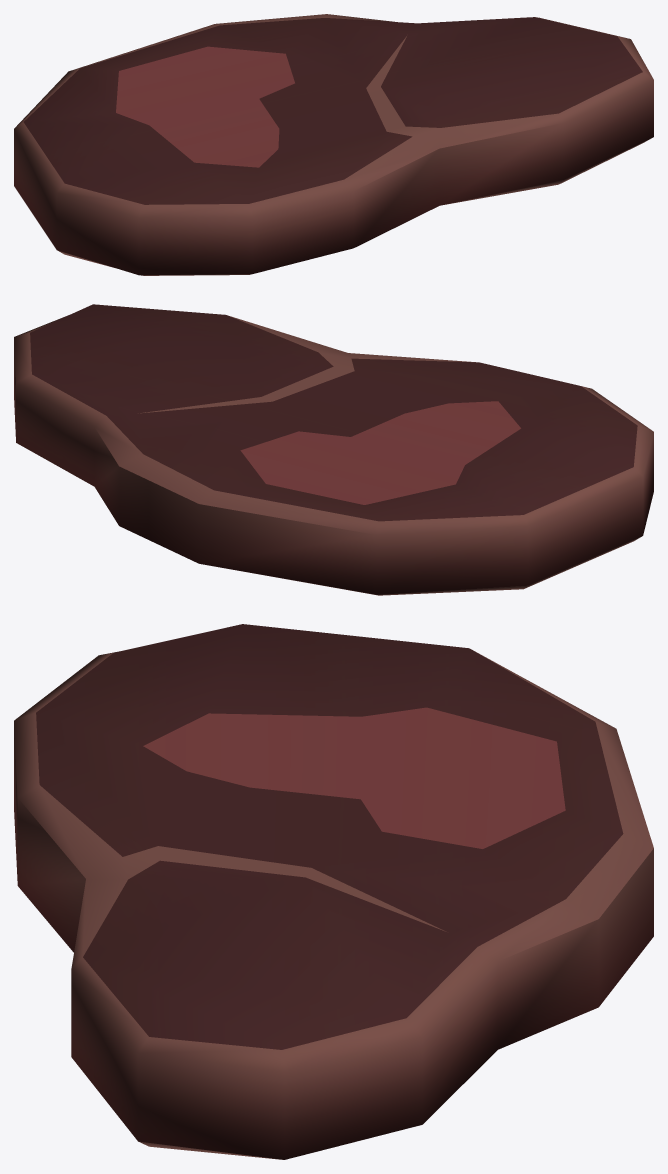
The model's file is Steak_Done_1A.fbx.
The picture shows the model from 3 angles, top to bottom: view 1: azimuth 30°, elevation 25°; view 2: azimuth 150°, elevation 25°; view 3: azimuth 270°, elevation 25°; orthographic projection. The views are drawn at different scales.
Parts seen in each view (by area): view 1: Steak_Done_1A; view 2: Steak_Done_1A; view 3: Steak_Done_1A.
Boxes of the visible parts, <box> form: Steak_Done_1A: <box>14,14,653,275</box>; Steak_Done_1A: <box>14,304,653,595</box>; Steak_Done_1A: <box>14,624,653,1159</box>.
Size of the model in its own units: 21.65 by 2.5 by 13.21.
